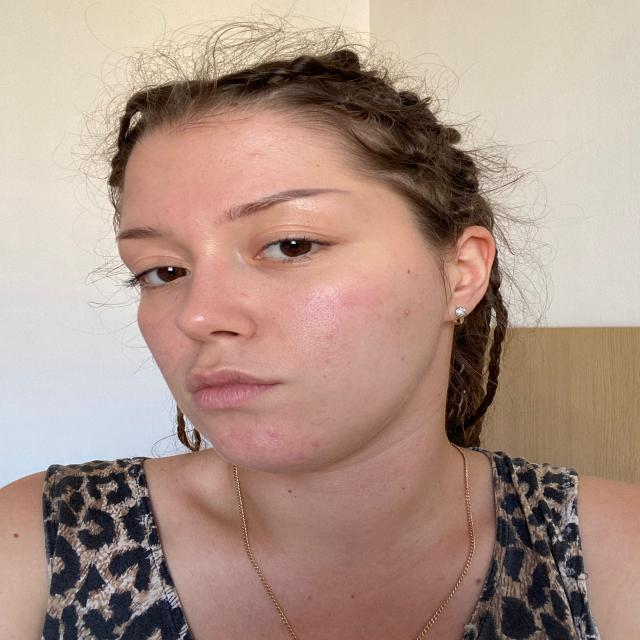Acne: (245, 150, 263, 161), (398, 308, 413, 320), (306, 440, 324, 450), (263, 428, 279, 438), (324, 332, 337, 343), (161, 349, 178, 357), (236, 290, 248, 298), (175, 340, 185, 346)
Englarged-Pores: (280, 283, 356, 362), (245, 417, 320, 452), (200, 221, 219, 259)
